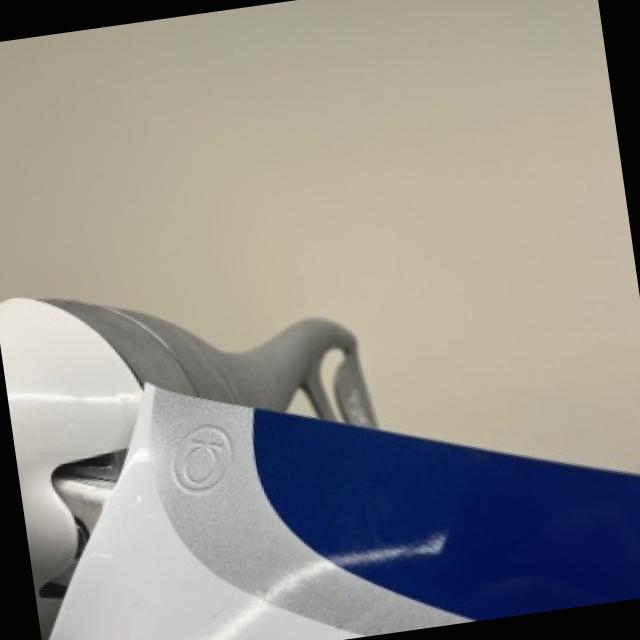healthy: (0, 297, 640, 640)
